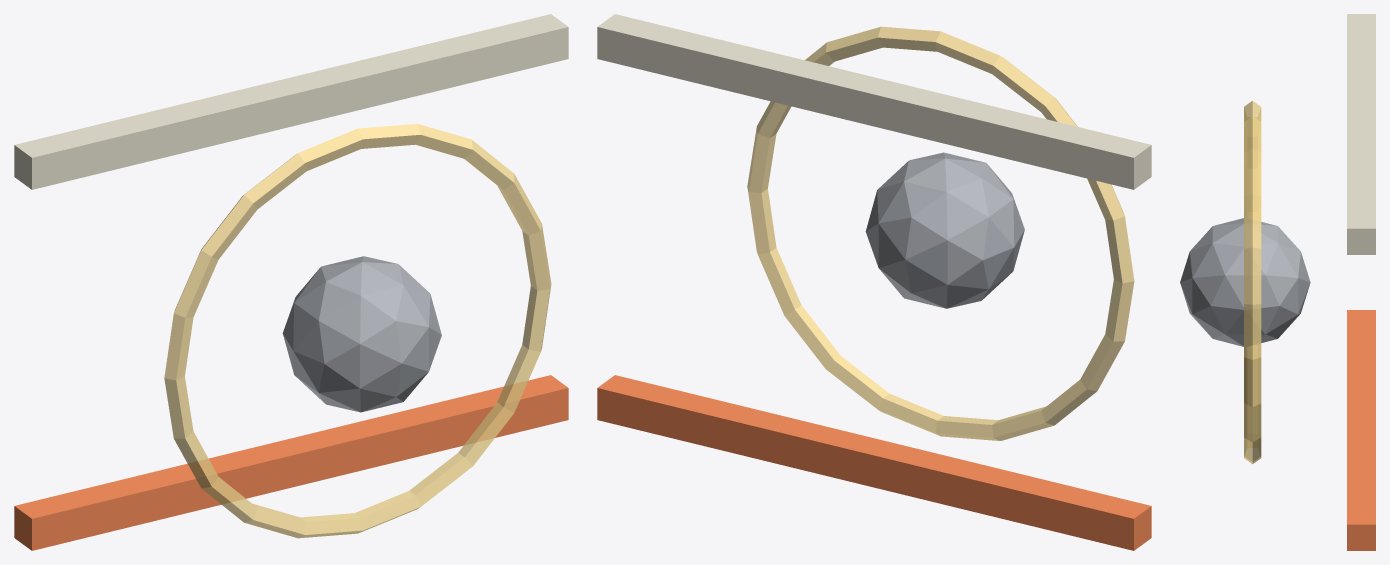
The model's file is 06_material_polish_overlay_6.glb.
3 renders of one model, left to right at view 1: azimuth 30°, elevation 25°; view 2: azimuth 150°, elevation 25°; view 3: azimuth 270°, elevation 25°, orthographic. The views are drawn at different scales.
Parts seen in each view (by area): view 1: polished_trim_bar_b, polished_trim_bar_a, material_preview_ring, reflective_sample_core; view 2: polished_trim_bar_a, polished_trim_bar_b, material_preview_ring, reflective_sample_core; view 3: reflective_sample_core, polished_trim_bar_a, polished_trim_bar_b, material_preview_ring.
Boxes of the visible parts, bbox=[...] form: polished_trim_bar_b: bbox=[14, 14, 568, 189]; polished_trim_bar_a: bbox=[14, 375, 568, 550]; material_preview_ring: bbox=[164, 124, 551, 538]; reflective_sample_core: bbox=[282, 256, 441, 412]; polished_trim_bar_a: bbox=[597, 375, 1151, 550]; polished_trim_bar_b: bbox=[597, 14, 1151, 189]; material_preview_ring: bbox=[747, 26, 1134, 440]; reflective_sample_core: bbox=[865, 152, 1024, 308]; reflective_sample_core: bbox=[1180, 218, 1310, 346]; polished_trim_bar_a: bbox=[1347, 310, 1375, 550]; polished_trim_bar_b: bbox=[1347, 14, 1375, 254]; material_preview_ring: bbox=[1244, 100, 1261, 464].
Bounding box in the file's own units: 1.4 × 1.01 × 0.54.
